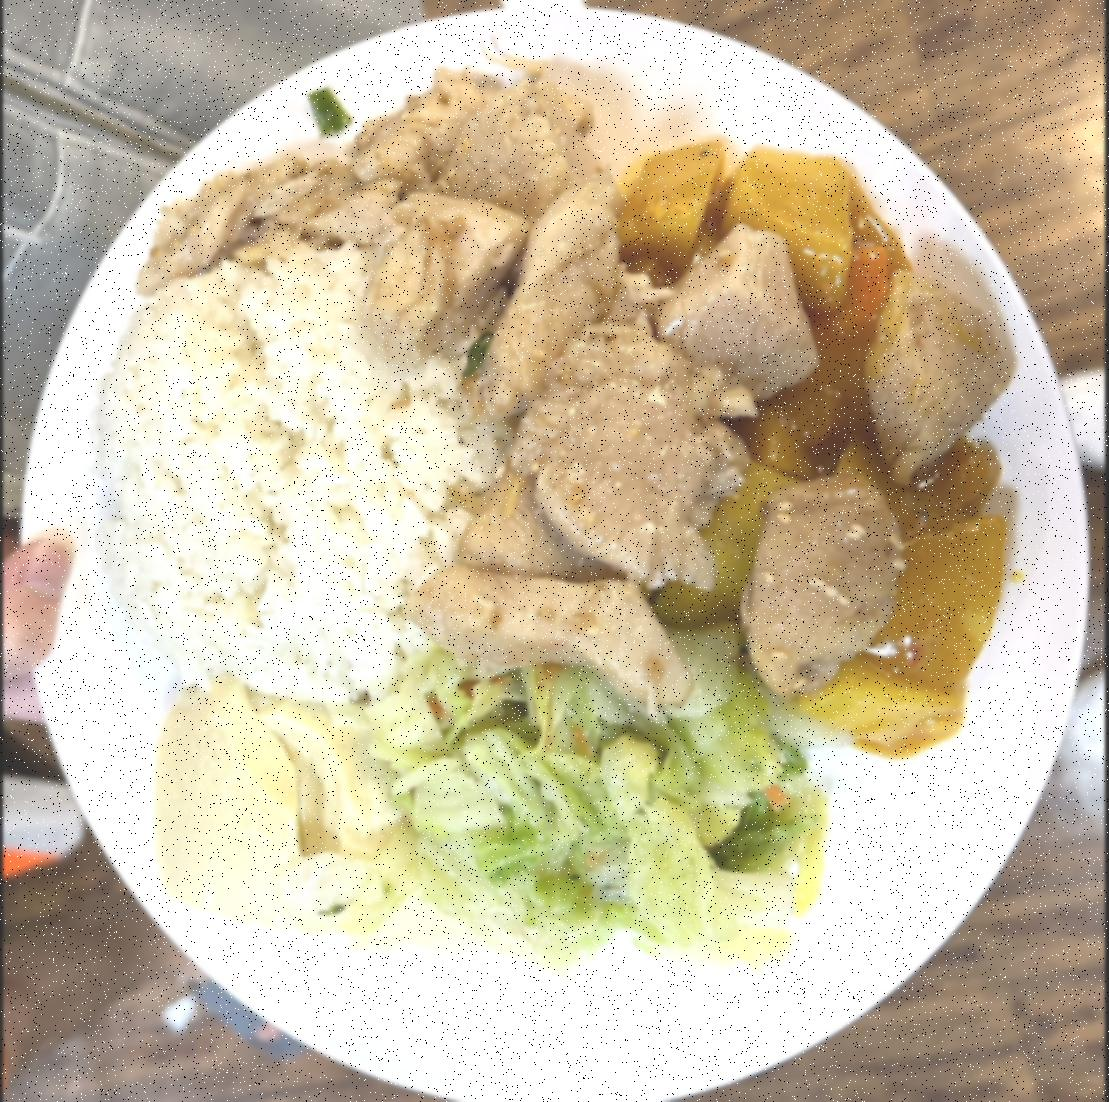big fried chicken leg: (9, 0, 1105, 1102)
big herbal chicken leg: (92, 254, 494, 704)
braised fish fillet: (624, 137, 1002, 759), (356, 664, 824, 979), (136, 672, 394, 937)
braised pork: (124, 57, 1012, 713)
